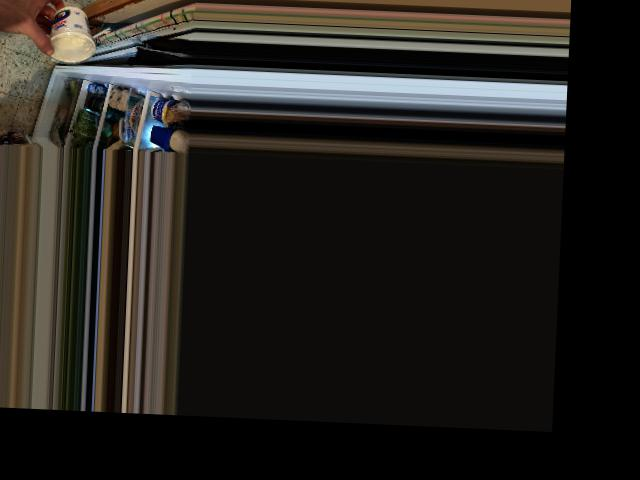cotage: (45, 7, 95, 68)
